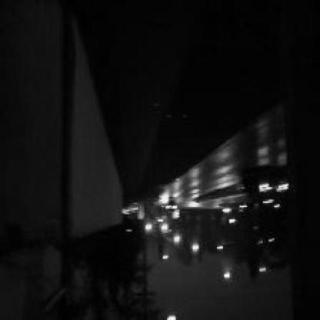other: (253, 114, 299, 210), (188, 161, 205, 261)
